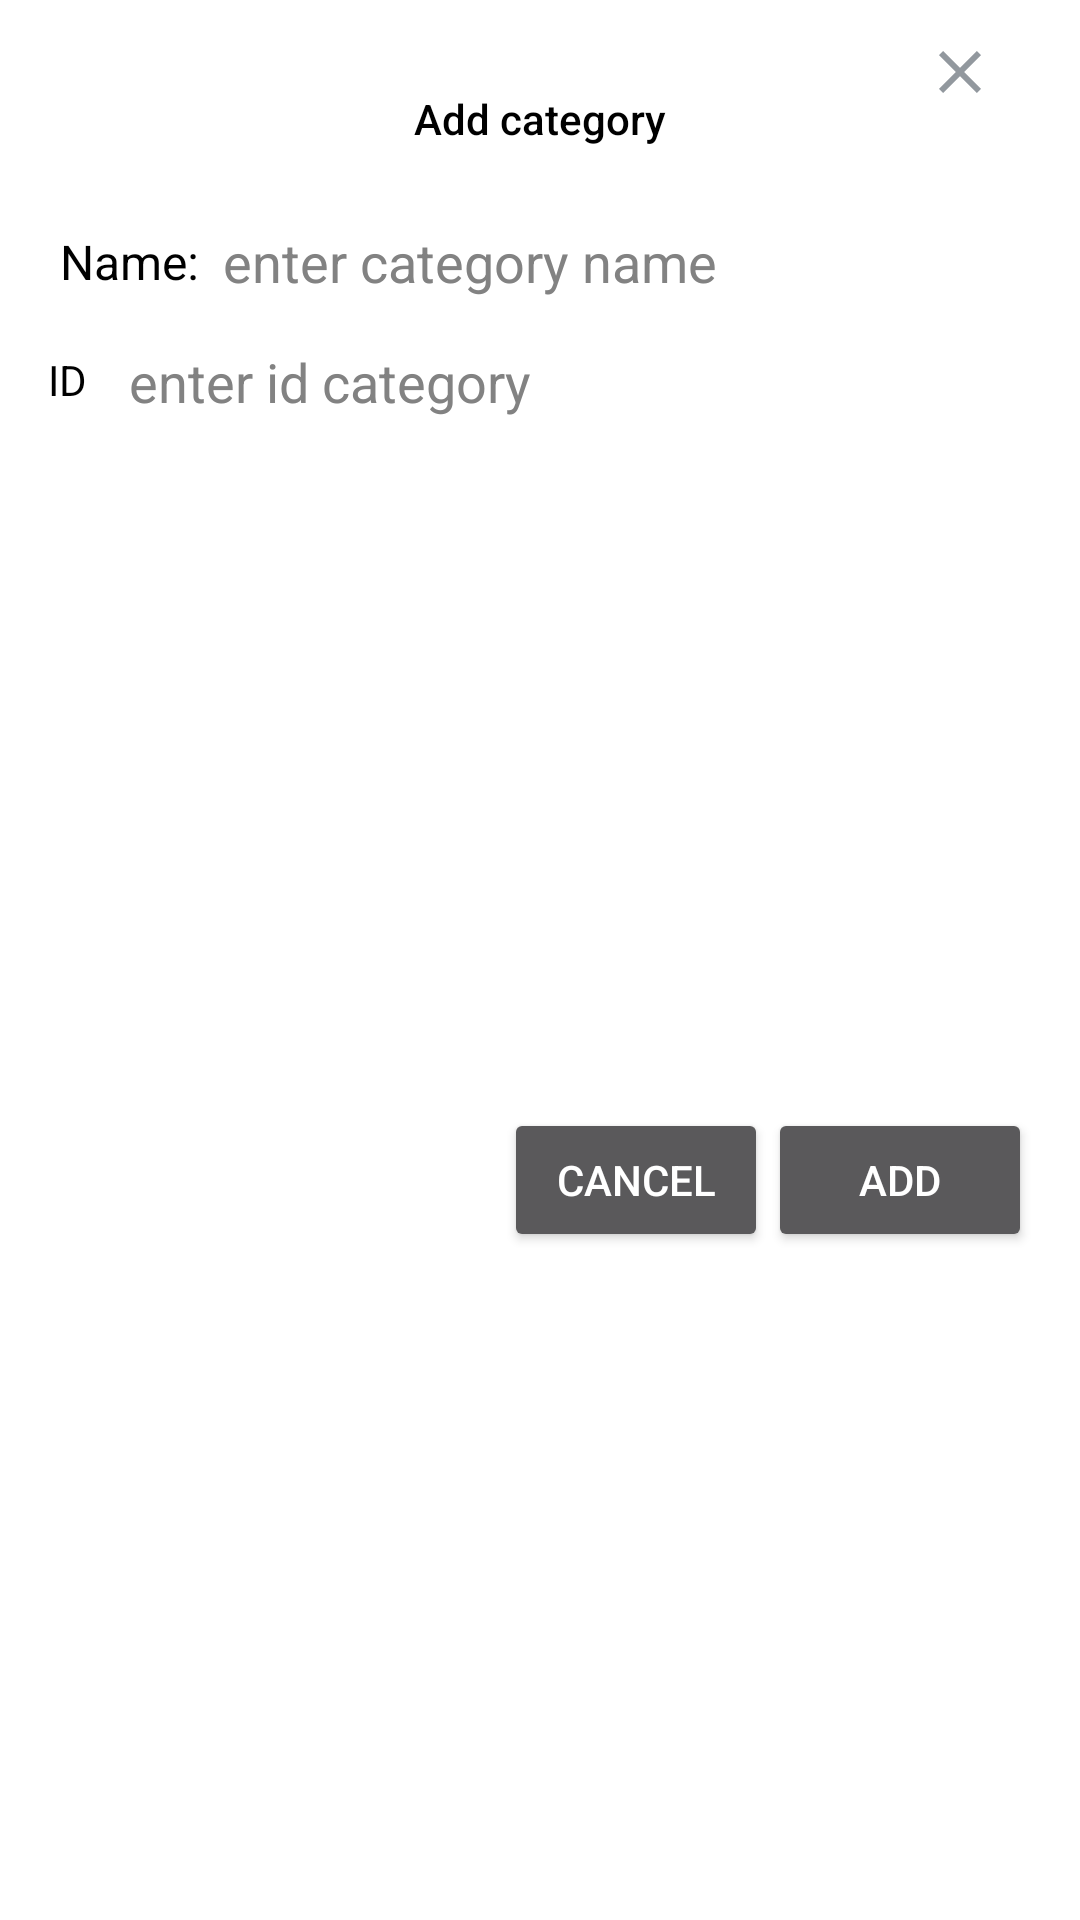

Named icons in this screenshot (1080*1920) and their centers, (x=x, y=y):
close: (x=960, y=72)
